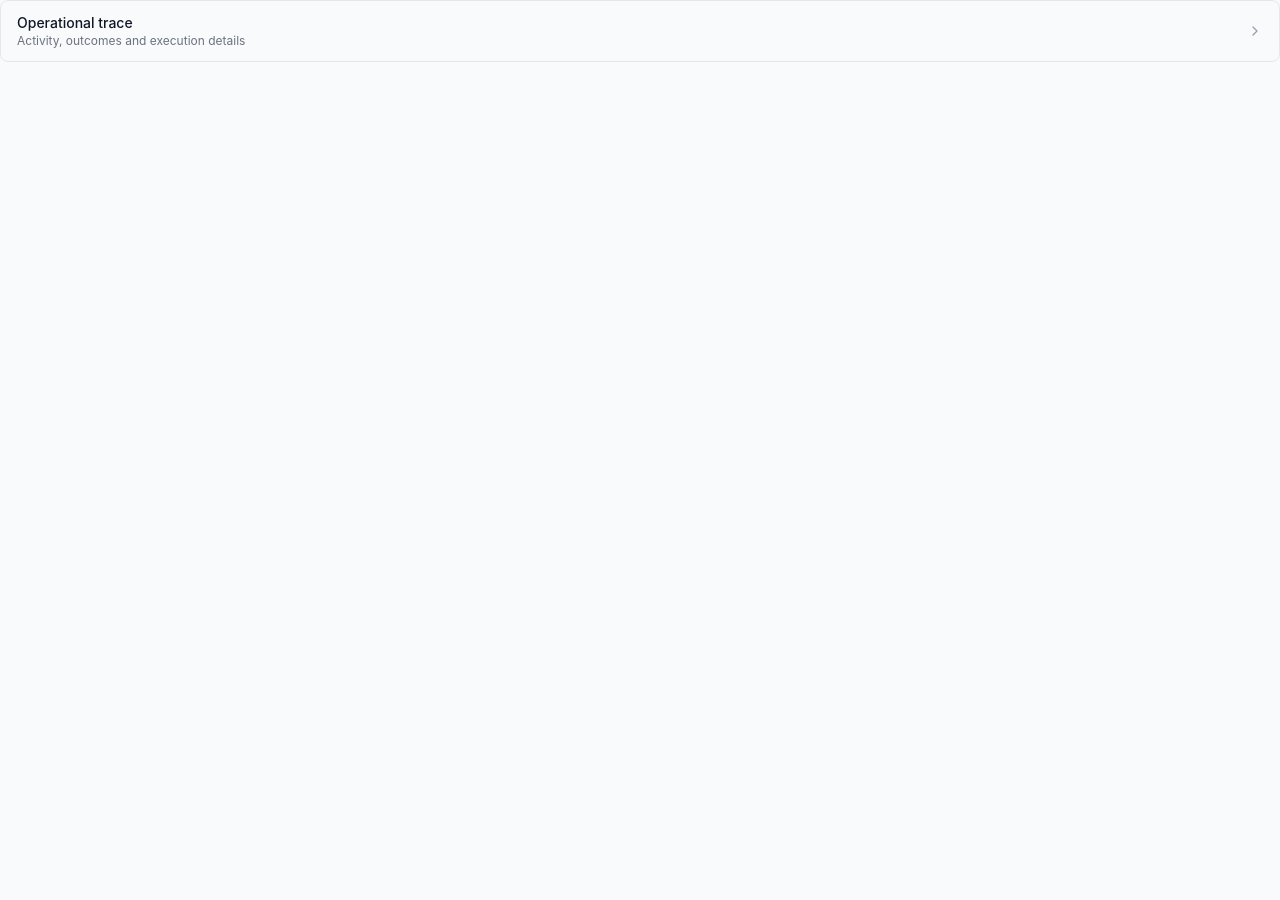
superadmin operational trace card › discloses invalid data and retains the complete correlation details
What coordinates should you click on to do the following:
click the text "Operational trace"
I would click on:
 (75, 22)
Its box is [17,14,133,31].
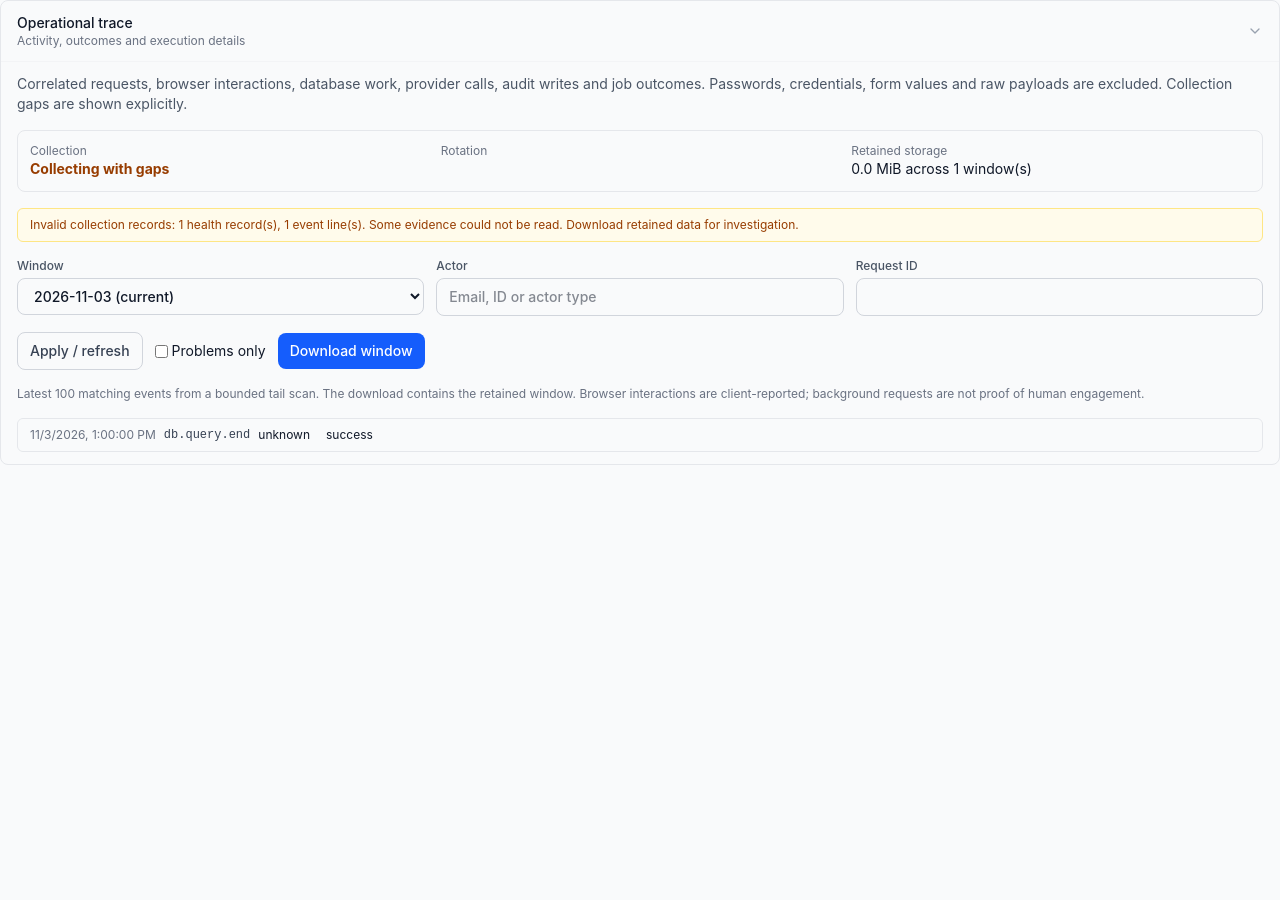
Result: the text "Collecting with gaps" is shown at [30,160,169,177]
Result: the message shows "Invalid collection records: 1 health record(s), 1 event line(s)" at [17,208,1263,242]
What coordinates should you click on to do the following:
click the text "db.query.end"
I would click on:
 (207, 435)
Its box is [164,427,250,443].
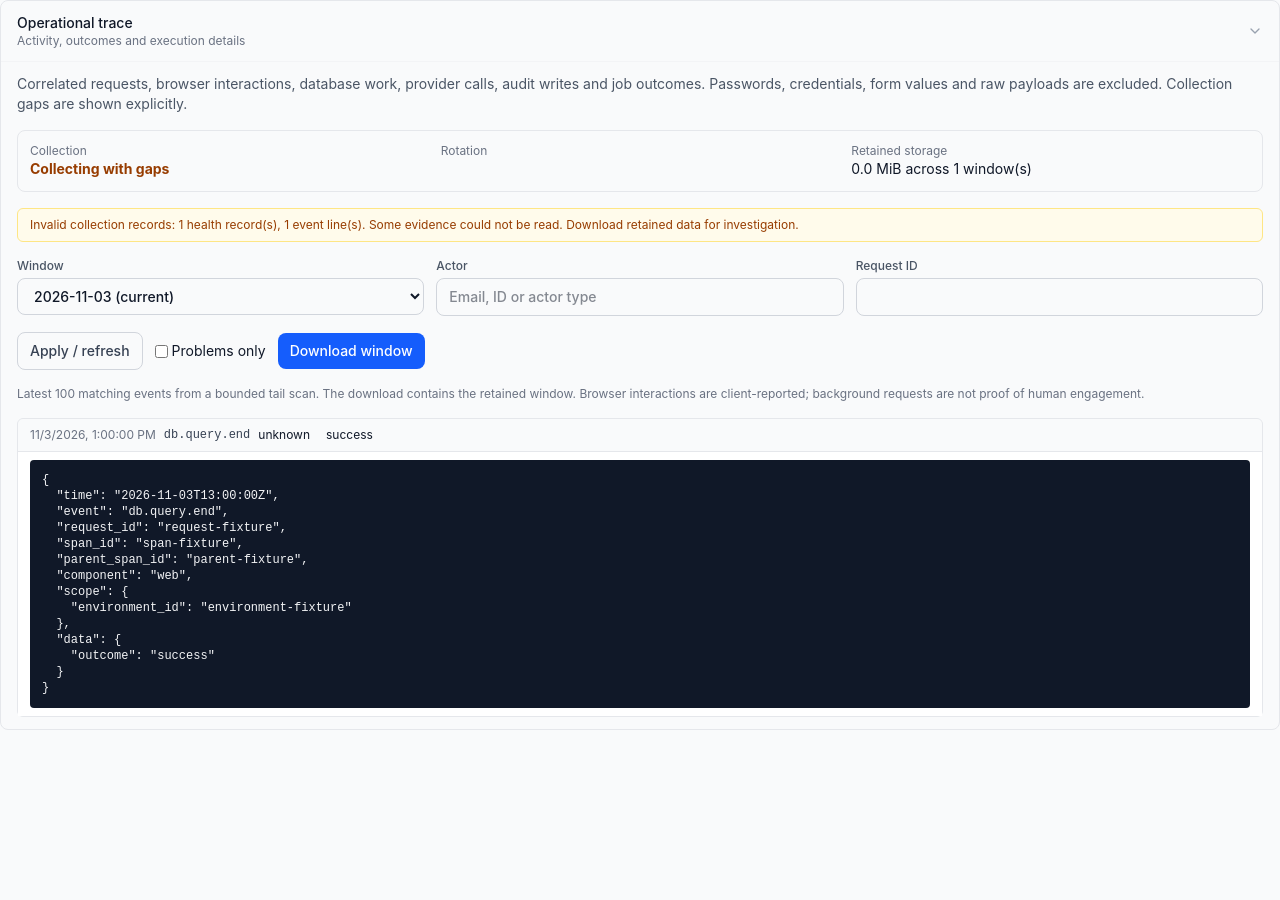
Result: the text "parent-fixture" shows "environment-fixture" at [42,473,352,695]
